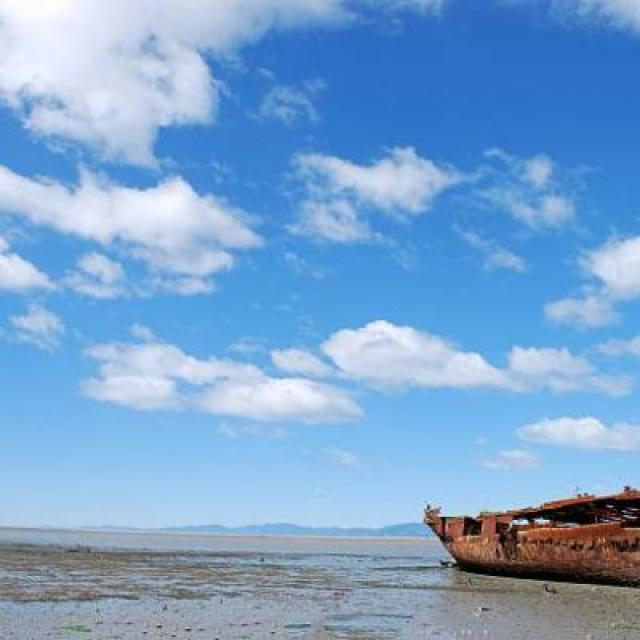Cs: (1, 1, 508, 435)
